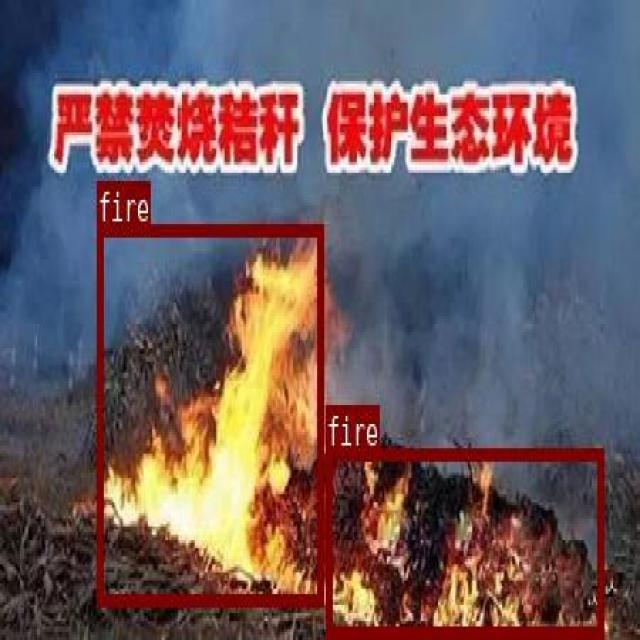fire: (96, 223, 322, 602), (325, 446, 603, 636)
